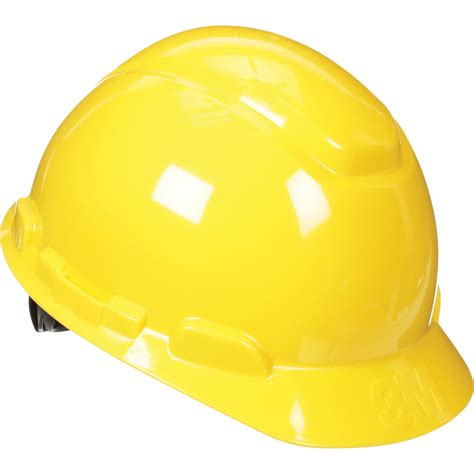???: (1, 25, 474, 450)
